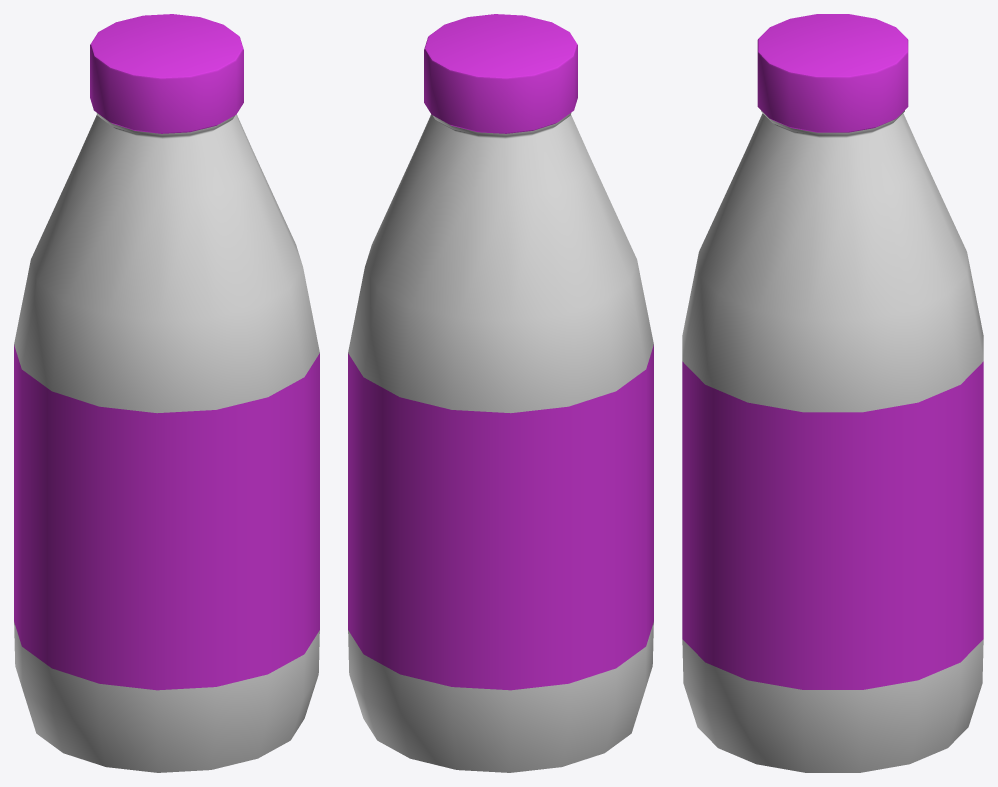
The model's file is Iogurte.fbx.
3 views of the same model, side by side, from view 1: azimuth 30°, elevation 25°; view 2: azimuth 150°, elevation 25°; view 3: azimuth 270°, elevation 25° (orthographic).
Parts seen in each view (by area): view 1: Iogurte, Iogurte_Tampa; view 2: Iogurte, Iogurte_Tampa; view 3: Iogurte, Iogurte_Tampa.
Boxes of the visible parts, x1,y1,x2,y2 form: Iogurte: [14, 113, 319, 772]; Iogurte_Tampa: [90, 14, 243, 133]; Iogurte: [348, 113, 653, 772]; Iogurte_Tampa: [424, 14, 577, 133]; Iogurte: [682, 110, 983, 772]; Iogurte_Tampa: [757, 14, 908, 132].
Size of the model in its own units: 17.71 by 43.48 by 17.71.
